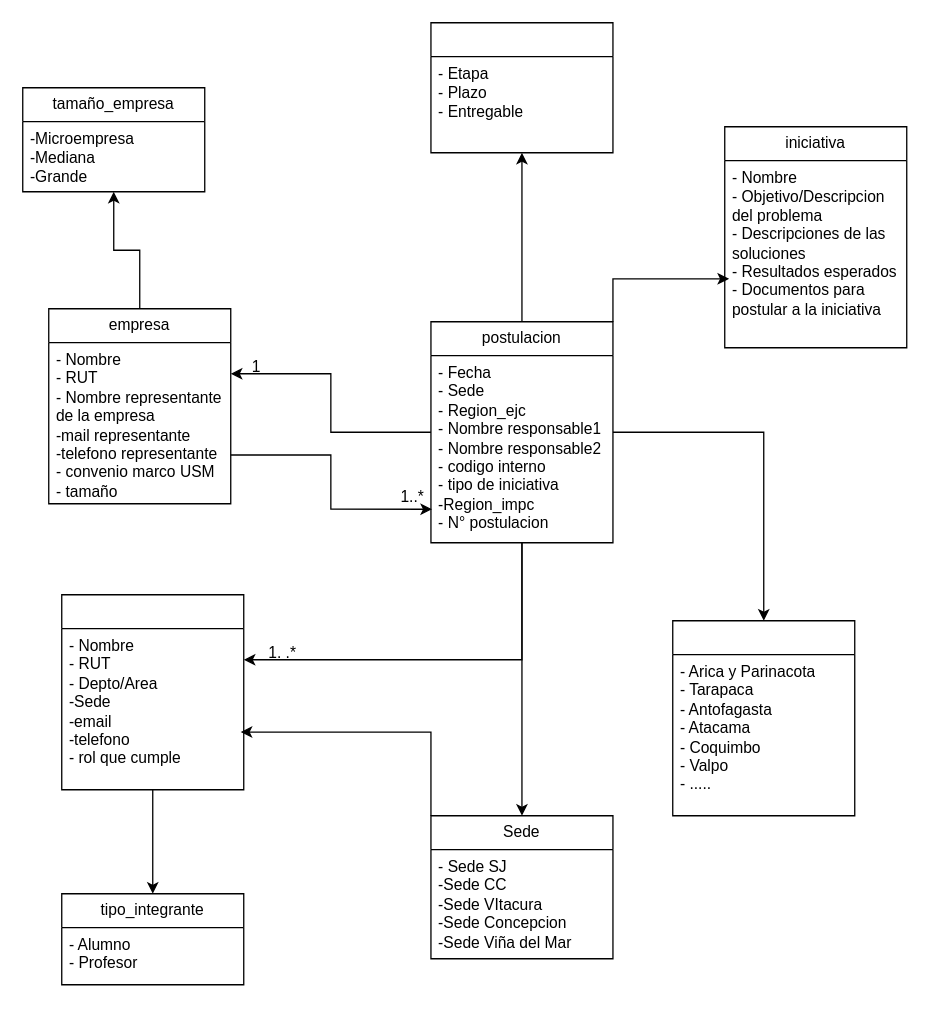
Some shapes in this 929 by 1011 pixel diagram are drawn without their labels. Here are the shapes that lost their labels. From the top down, the box of each, then its label:
(430, 21, 613, 153): cronograma
(60, 593, 244, 790): integrantes
(671, 619, 855, 816): Regiones
